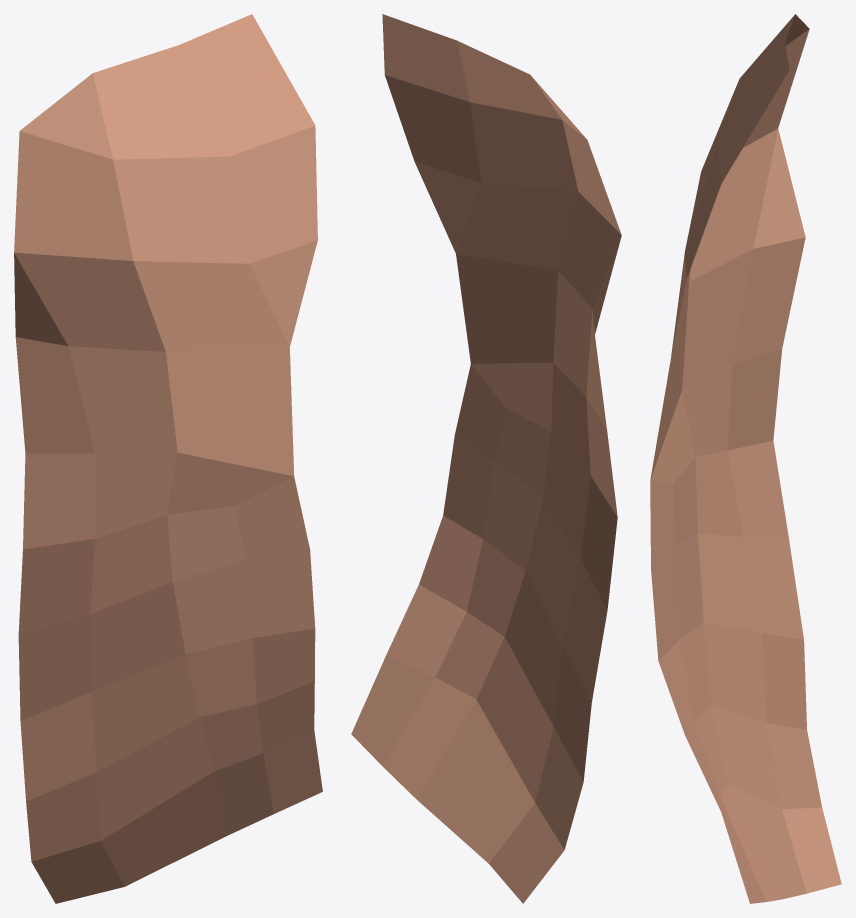
The model's file is jerocaraizq (1).fbx.
3 renders of one model, left to right at view 1: azimuth 30°, elevation 25°; view 2: azimuth 150°, elevation 25°; view 3: azimuth 270°, elevation 25°, orthographic. The views are drawn at different scales.
Parts seen in each view (by area): view 1: Plane.004; view 2: Plane.004; view 3: Plane.004.
Boxes of the visible parts, box(x1,y1,x2,y2) form: Plane.004: box(14, 14, 322, 903); Plane.004: box(351, 14, 621, 903); Plane.004: box(650, 14, 841, 903).
Bounding box in the file's own units: 7.6 × 21.3 × 4.1.
